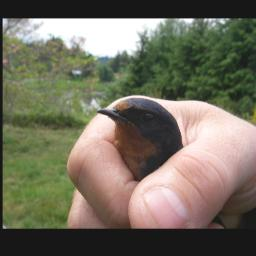Swallow: (94, 95, 185, 182)
